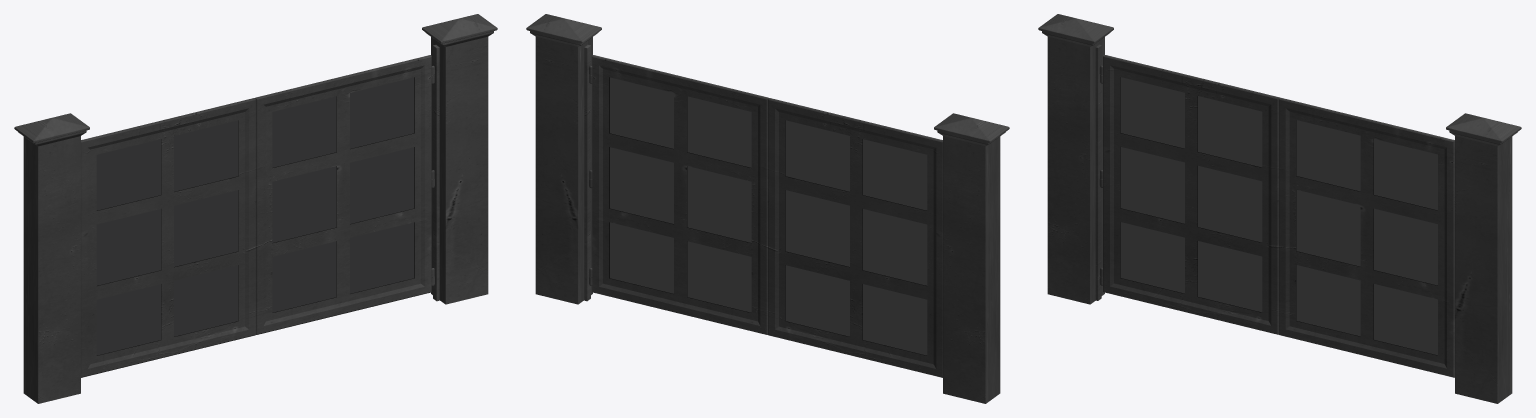
File: WALLS GATE.fbx
3 renders of one model, left to right at view 1: azimuth 30°, elevation 25°; view 2: azimuth 150°, elevation 25°; view 3: azimuth 330°, elevation 25°, orthographic.
Parts seen in each view (by area): view 1: one7; view 2: one7; view 3: one7.
Part boxes in pixels (bbox=[...]): one7: bbox=[14, 14, 497, 403]; one7: bbox=[526, 14, 1009, 403]; one7: bbox=[1038, 14, 1521, 403].
Size of the model in its own units: 4.64 by 2.63 by 0.3376.
2 materials, 1 textured.
